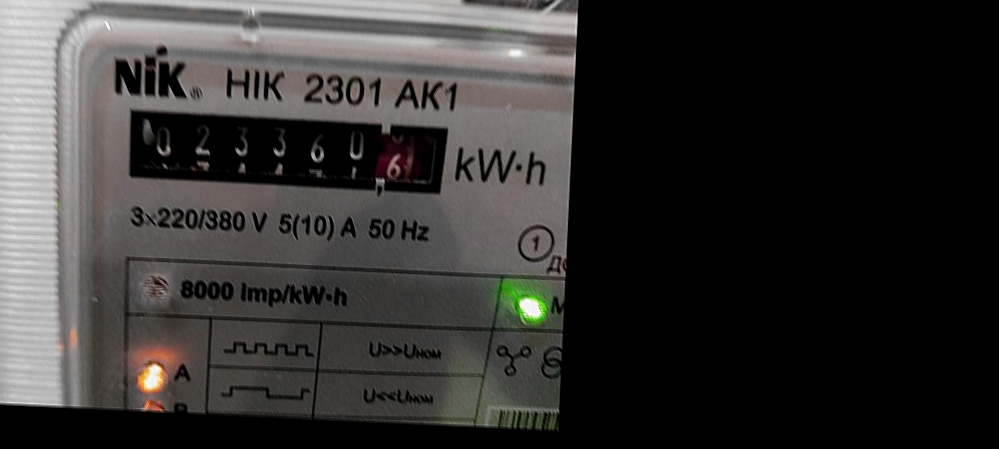0: (150, 121, 173, 157), (343, 126, 366, 162)
2: (190, 121, 212, 157)
3: (229, 122, 250, 158), (268, 123, 287, 158)
6: (305, 128, 326, 163), (382, 147, 401, 180)
screen: (111, 96, 466, 211)
